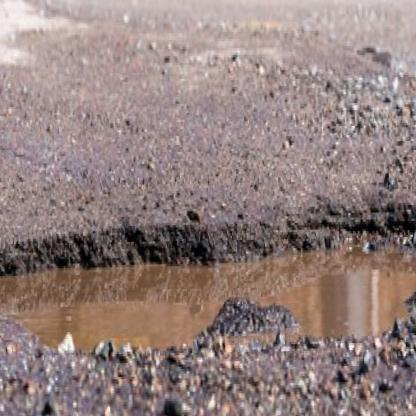pothole: (0, 203, 416, 362)
